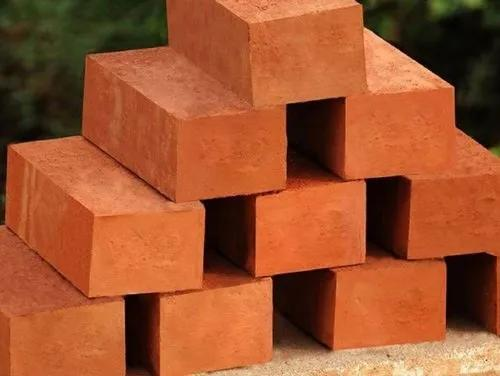Bricks: (6, 136, 206, 299), (82, 42, 286, 201), (292, 28, 456, 181), (273, 257, 448, 353), (406, 129, 500, 278), (159, 273, 273, 376), (251, 179, 366, 278)
